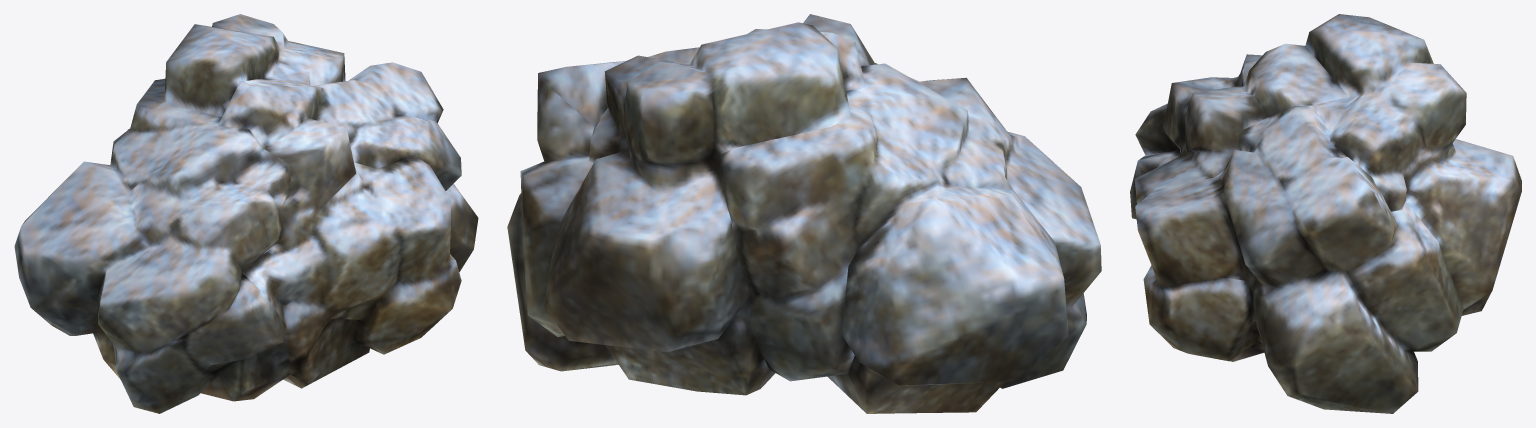
The model's file is SM_EN_2007_shitou05.FBX.
3 renders of one model, left to right at view 1: azimuth 30°, elevation 25°; view 2: azimuth 150°, elevation 25°; view 3: azimuth 270°, elevation 25°, orthographic. The views are drawn at different scales.
Visible parts, largest first — view 1: SM_EN_2007_shitou05; view 2: SM_EN_2007_shitou05; view 3: SM_EN_2007_shitou05.
Boxes of the visible parts, box(x1,y1,x2,y2) form: SM_EN_2007_shitou05: box(14, 14, 478, 413); SM_EN_2007_shitou05: box(507, 14, 1101, 413); SM_EN_2007_shitou05: box(1130, 14, 1521, 413).
Size of the model in its own units: 194 by 125 by 145.
